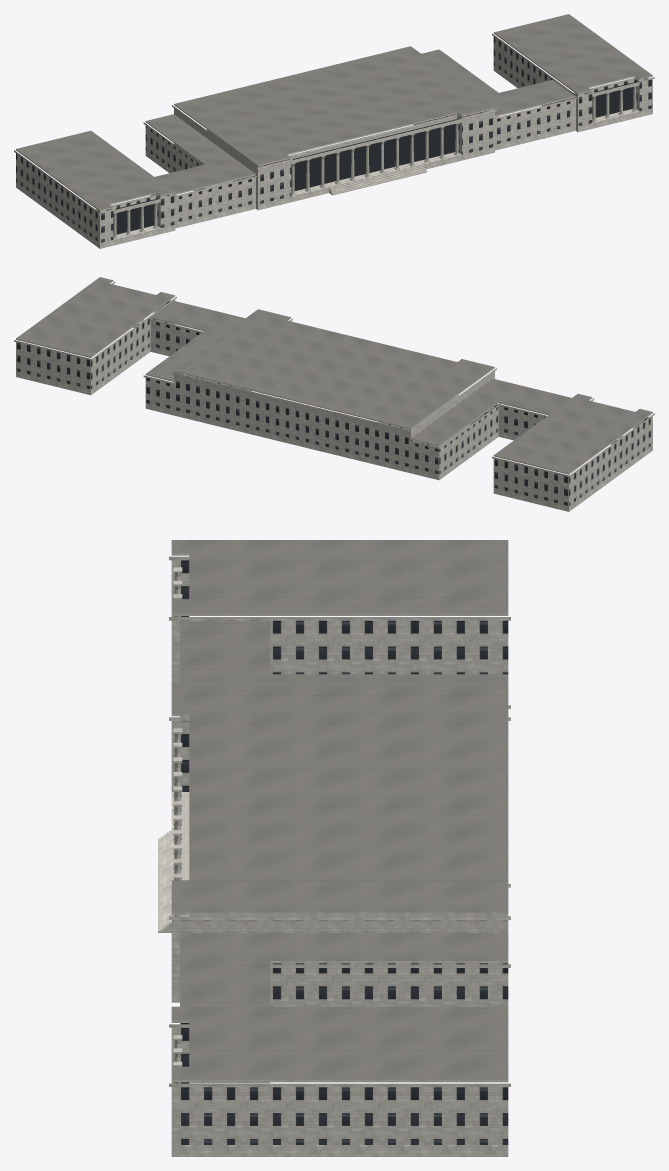
File: usda_whitten.glb
3 views of the same model, one above another, from view 1: azimuth 30°, elevation 25°; view 2: azimuth 150°, elevation 25°; view 3: azimuth 270°, elevation 25° (orthographic). The views are drawn at different scales.
Parts seen in each view (by area): view 1: usda_whitten; view 2: usda_whitten; view 3: usda_whitten.
Part boxes in pixels (x1,y1,x2,y2): usda_whitten: (14,14,654,248); usda_whitten: (14,277,654,511); usda_whitten: (158,540,510,1156).
Bounding box in the file's own units: 234 × 18.09 × 64.5.
Materials: 5 (5 with a texture image).
